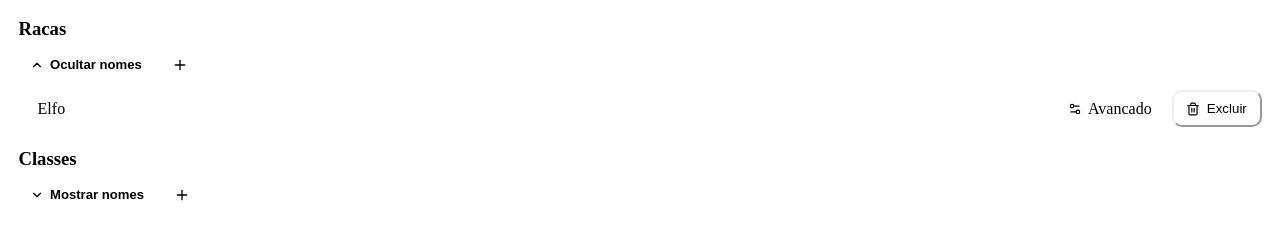
Test: RaceClassOptionsSection › remove race usando use-case e atualiza lista
Click the button "Excluir" at (1217, 109), box [1172, 90, 1262, 127]
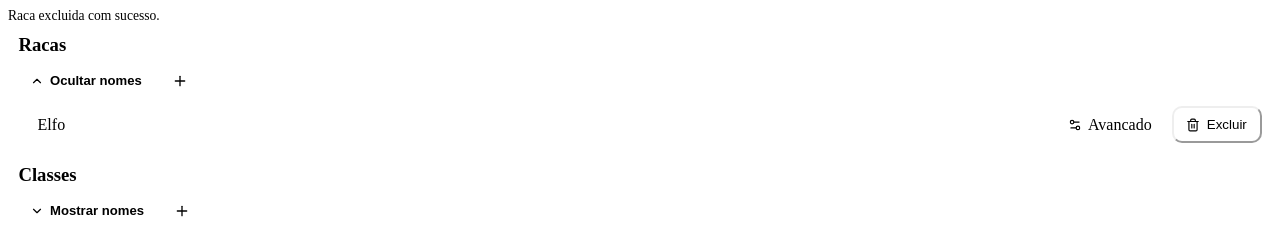
Now the text "Raca excluida com sucesso." is shown, box [8, 8, 160, 23]
